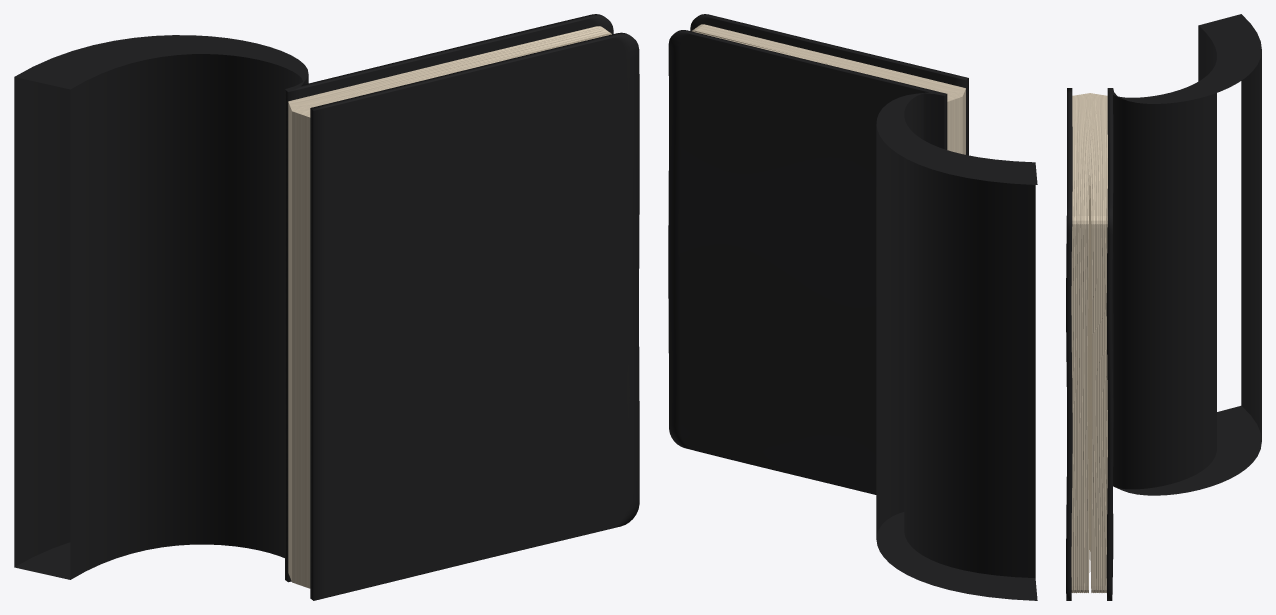
Rendered from about-notebook.glb.
The picture shows the model from 3 angles, left to right: view 1: azimuth 30°, elevation 25°; view 2: azimuth 150°, elevation 25°; view 3: azimuth 270°, elevation 25°; orthographic projection. The views are drawn at different scales.
Parts seen in each view (by area): view 1: Opening front cover, Spine lining, Spine outer leather, left bound signatures, Spine head cut, Fixed back cover, right head signatures, right bound signatures, Spine tail cut, left head signatures; view 2: Fixed back cover, Spine lining, Spine outer leather, Spine head cut, Spine tail cut, Opening front cover, left head signatures, right bound signatures, right head signatures; view 3: Spine lining, Spine outer leather, left fore signatures, right fore signatures, Spine head cut, Spine tail cut, Fixed back cover, Opening front cover, right head signatures, left head signatures, AboutWrittenLeaf, AboutBlankLeaf.
Boxes of the visible parts, bbox=[...] form: Opening front cover: bbox=[310, 32, 639, 600]; Spine lining: bbox=[70, 54, 302, 579]; Spine outer leather: bbox=[14, 74, 308, 566]; left bound signatures: bbox=[292, 111, 310, 588]; Spine head cut: bbox=[14, 35, 308, 91]; Fixed back cover: bbox=[284, 14, 613, 582]; right head signatures: bbox=[288, 26, 606, 111]; right bound signatures: bbox=[288, 102, 291, 581]; Spine tail cut: bbox=[14, 542, 70, 579]; left head signatures: bbox=[292, 34, 608, 117]; Fixed back cover: bbox=[668, 30, 947, 494]; Spine lining: bbox=[904, 93, 1035, 578]; Spine outer leather: bbox=[876, 93, 944, 539]; Spine head cut: bbox=[876, 92, 1037, 184]; Spine tail cut: bbox=[876, 512, 1037, 600]; Opening front cover: bbox=[690, 14, 968, 155]; left head signatures: bbox=[695, 24, 965, 97]; right bound signatures: bbox=[947, 96, 962, 153]; right head signatures: bbox=[694, 31, 962, 101]; Spine lining: bbox=[1113, 25, 1216, 489]; Spine outer leather: bbox=[1241, 51, 1261, 440]; left fore signatures: bbox=[1071, 216, 1088, 593]; right fore signatures: bbox=[1091, 216, 1107, 592]; Spine head cut: bbox=[1108, 14, 1261, 103]; Spine tail cut: bbox=[1115, 405, 1261, 495]; Fixed back cover: bbox=[1106, 88, 1113, 600]; Opening front cover: bbox=[1066, 88, 1072, 600]; right head signatures: bbox=[1082, 93, 1107, 215]; left head signatures: bbox=[1072, 93, 1097, 215]; AboutWrittenLeaf: bbox=[1090, 176, 1092, 588]; AboutBlankLeaf: bbox=[1087, 175, 1089, 572].
Bounding box in the file's own units: 0.252 × 0.2292 × 0.1038.
7 materials, 1 textured.
